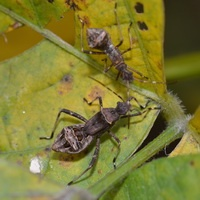insect: (40, 76, 160, 184), (76, 0, 147, 84)
